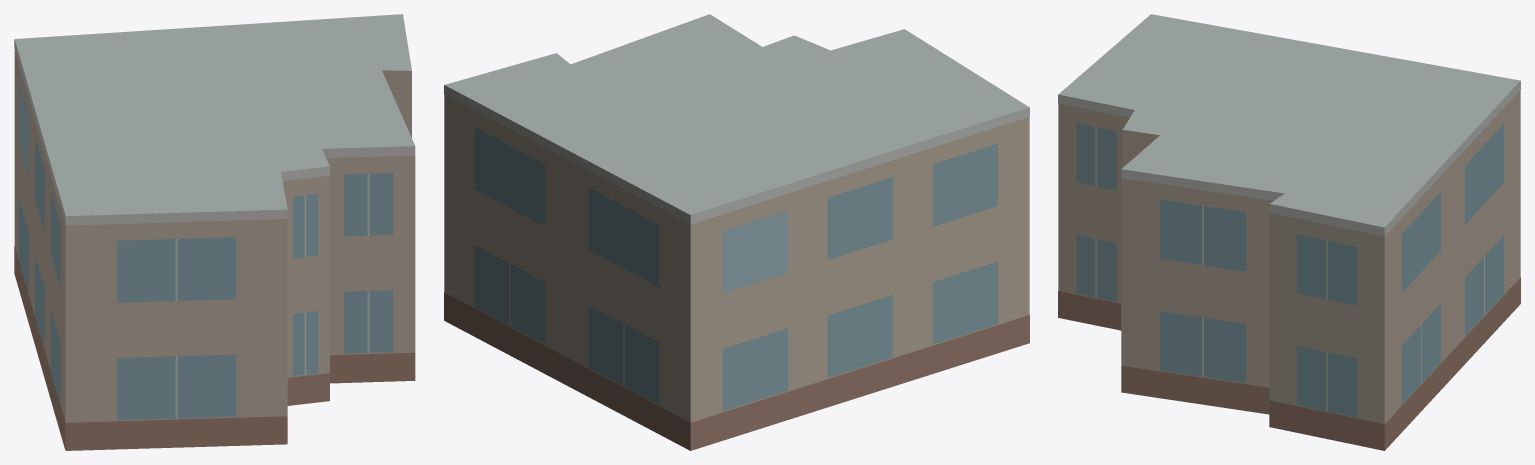
Rendered from survey-upis-32618550.glb.
The picture shows the model from 3 angles, left to right: view 1: azimuth 30°, elevation 25°; view 2: azimuth 150°, elevation 25°; view 3: azimuth 270°, elevation 25°; orthographic projection. The views are drawn at different scales.
Parts seen in each view (by area): view 1: survey-upis-32618550.tmp; view 2: survey-upis-32618550.tmp; view 3: survey-upis-32618550.tmp.
Boxes of the visible parts, left/top/right/bottom form: survey-upis-32618550.tmp: left=14, top=14, right=415, bottom=450; survey-upis-32618550.tmp: left=444, top=14, right=1029, bottom=450; survey-upis-32618550.tmp: left=1058, top=14, right=1520, bottom=450.
Bounding box in the file's own units: 12.53 × 6.1 × 11.46.
